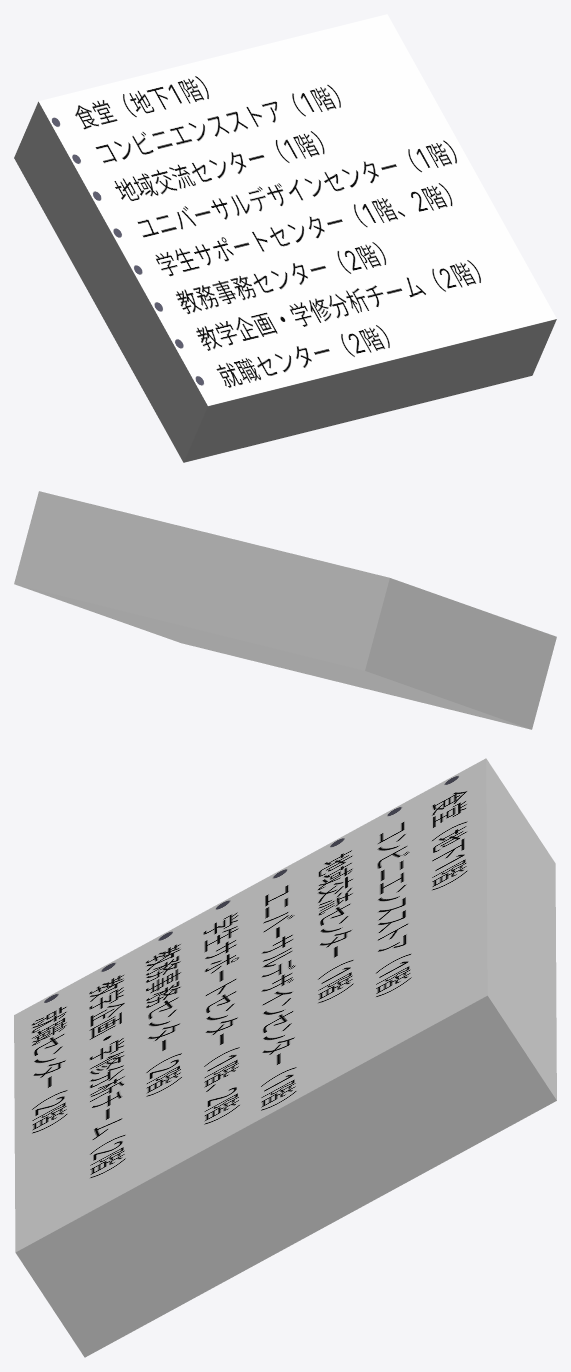
3 renders of one model, top to bottom at view 1: azimuth 30°, elevation 25°; view 2: azimuth 150°, elevation 25°; view 3: azimuth 270°, elevation 25°, orthographic. The views are drawn at different scales.
Visible parts, largest first — view 1: 立方体; view 2: 立方体; view 3: 立方体.
Boxes of the visible parts, x1,y1,x2,y2 form: 立方体: (14,14,556,462); 立方体: (14,491,556,729); 立方体: (14,758,556,1357).
Bounding box in the file's own units: 0.5038 × 0.3546 × 0.4803.
2 materials, 1 textured.
